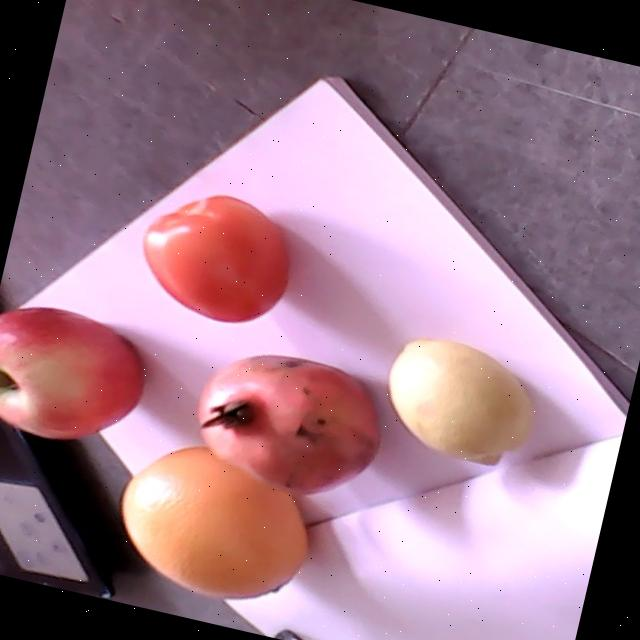apple: (0, 305, 140, 438)
lemon: (389, 337, 535, 464)
orange: (119, 443, 306, 602)
pomegranate: (195, 354, 379, 494)
tomato: (140, 197, 286, 319)
